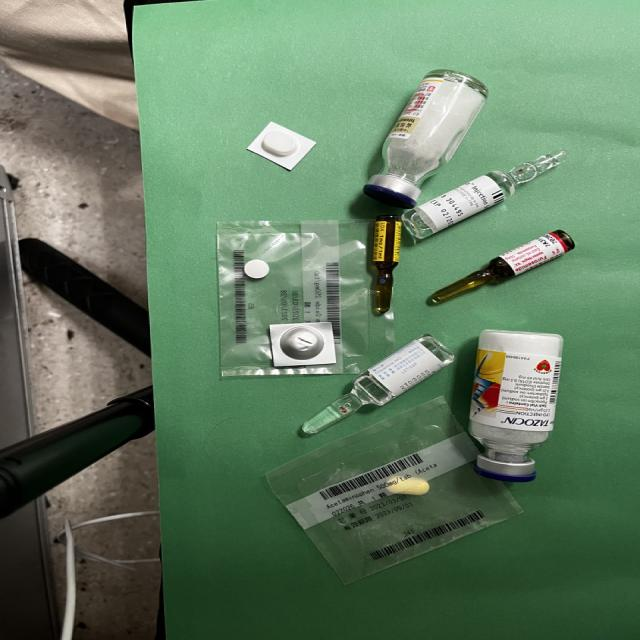Ampoules: (301, 335, 454, 434), (401, 150, 566, 240), (430, 230, 573, 304), (372, 215, 401, 314)
Vials: (363, 70, 487, 209), (469, 330, 563, 482)
